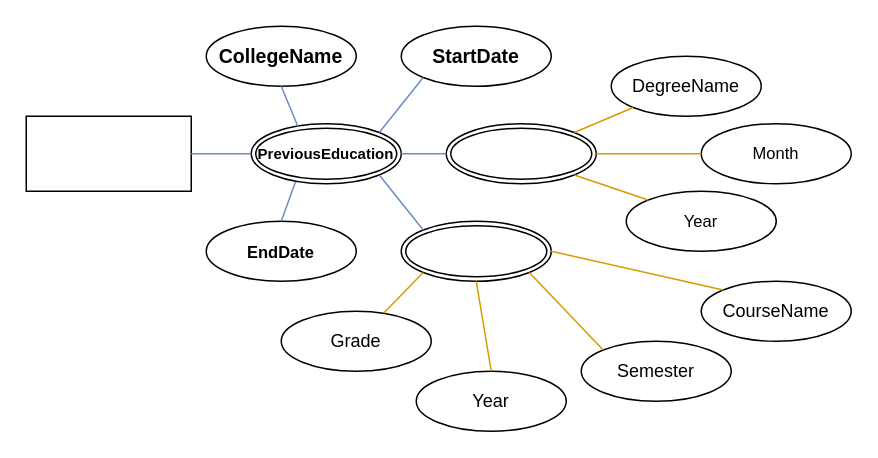
Image size: 878x458. Some labels were removed from this diagram. The centre of each missing label's shape, as x and y in pixels:
"Degree" goes at point (520, 153).
"STUDENT" goes at point (108, 153).
"Transcript" goes at point (475, 250).
